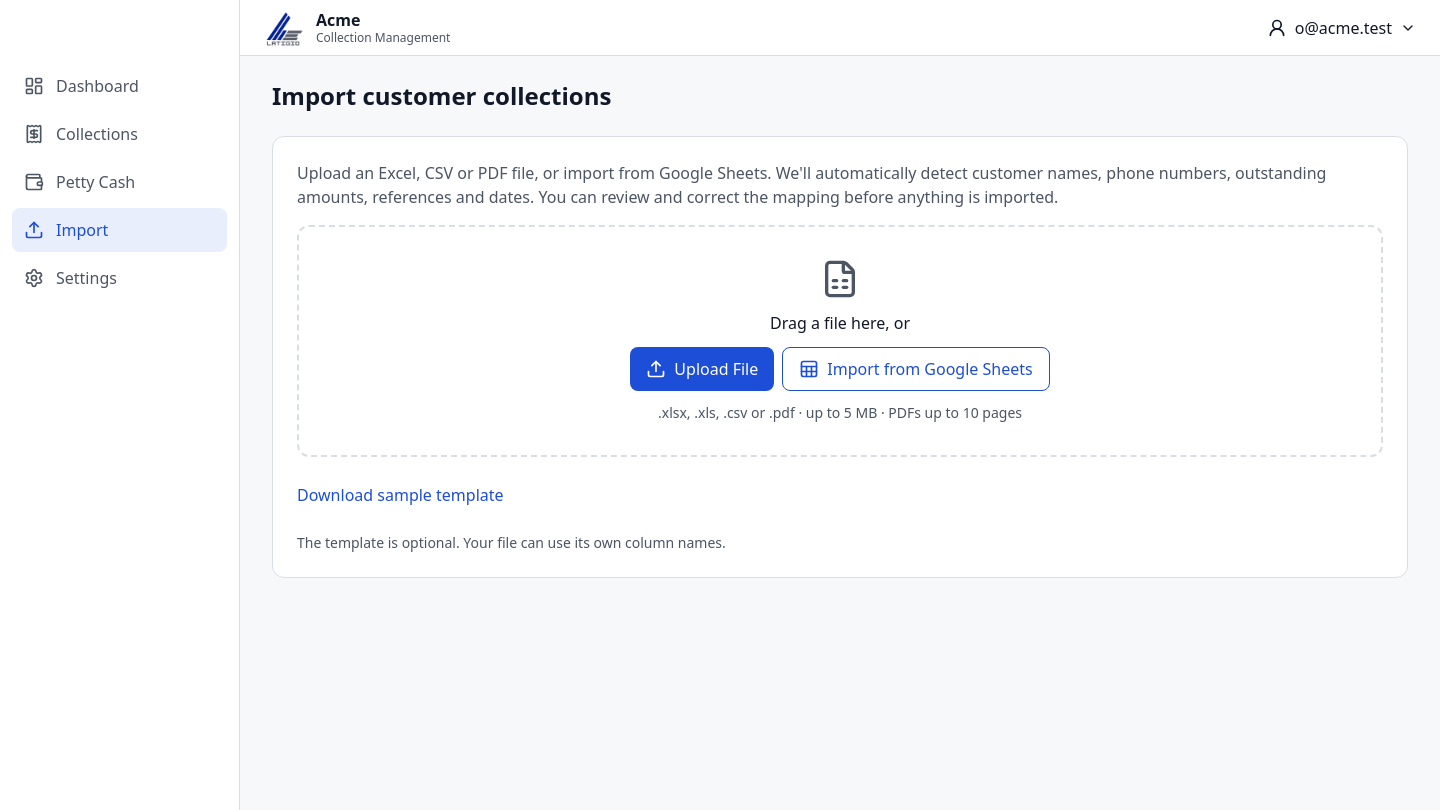
Test case: Google Sheets source › explains how to import a private sheet when the service account is configured
Expected: the heading "Import customer collections" is shown, [272, 79, 611, 112]
Step 1. Click the button "Import from Google Sheets" → click(916, 369), box [782, 347, 1050, 391]
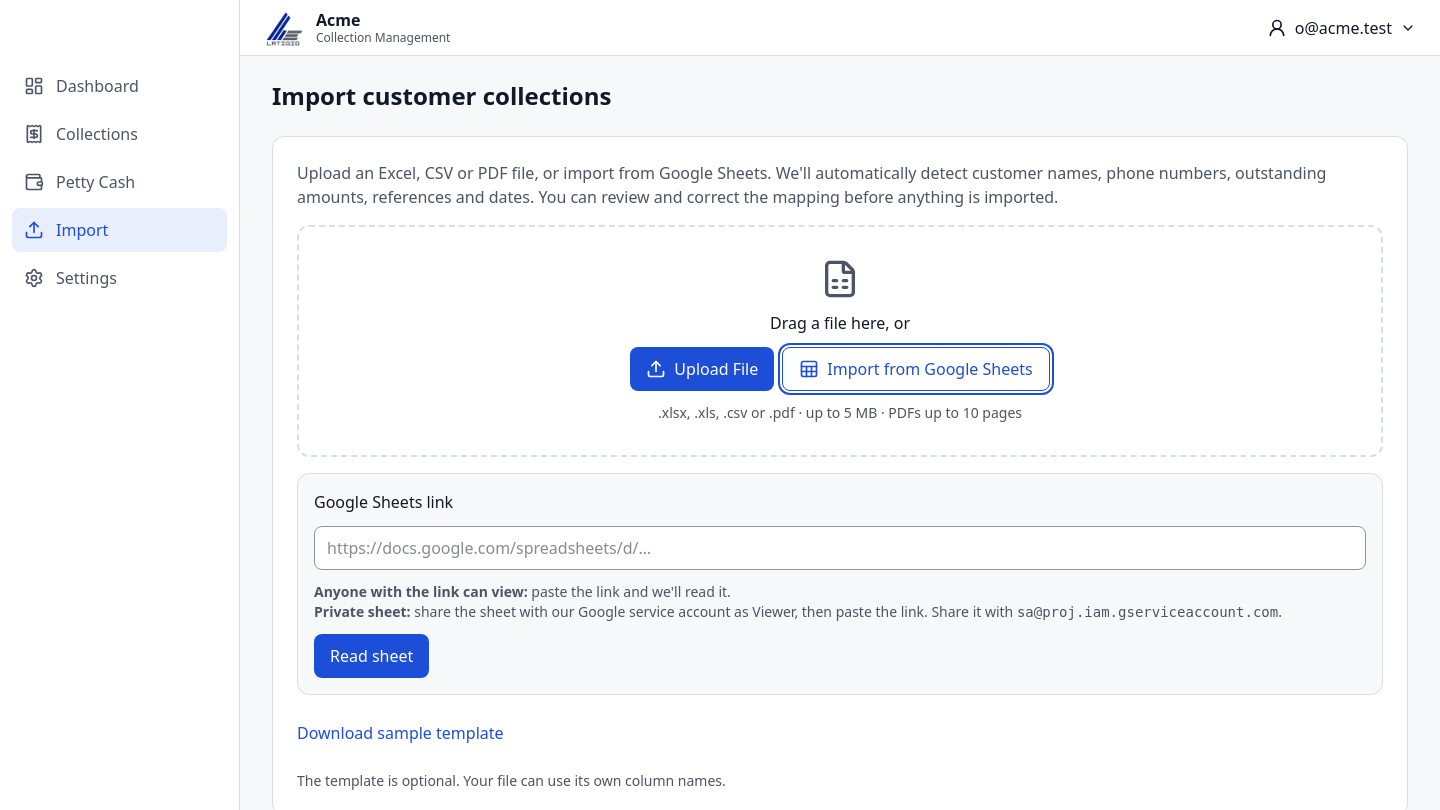
Expected: the text "sa@proj.iam.gserviceaccount.com" is shown, [1017, 604, 1278, 620]
Expected: the text "share the sheet with our Google service account as" is shown, [411, 602, 1013, 621]
Expected: the text "Anyone with the link can view:" is shown, [314, 582, 528, 601]
